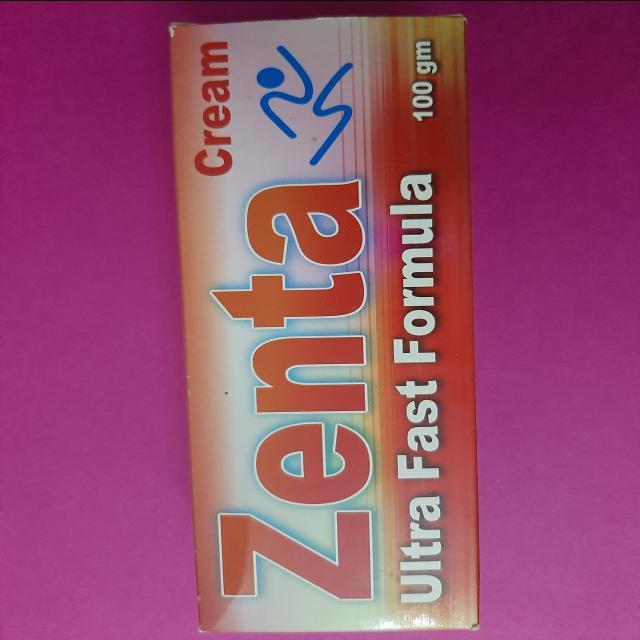Medicine Name: (205, 175, 391, 614)
